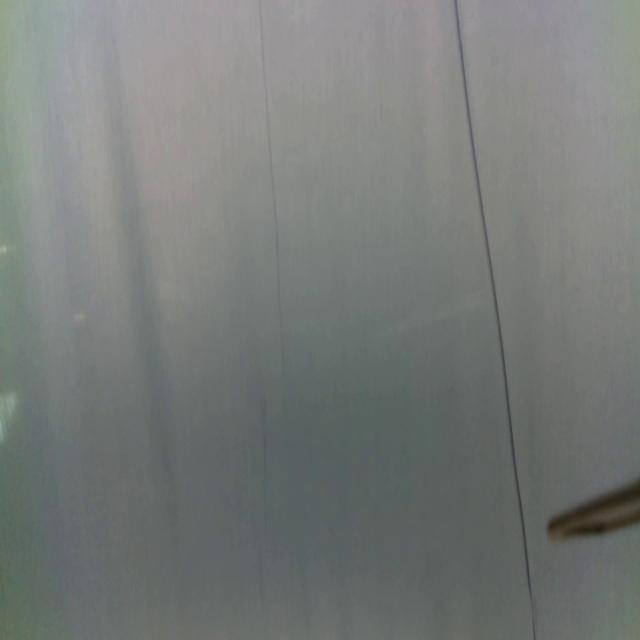crease: (454, 0, 538, 640), (258, 0, 285, 378)
